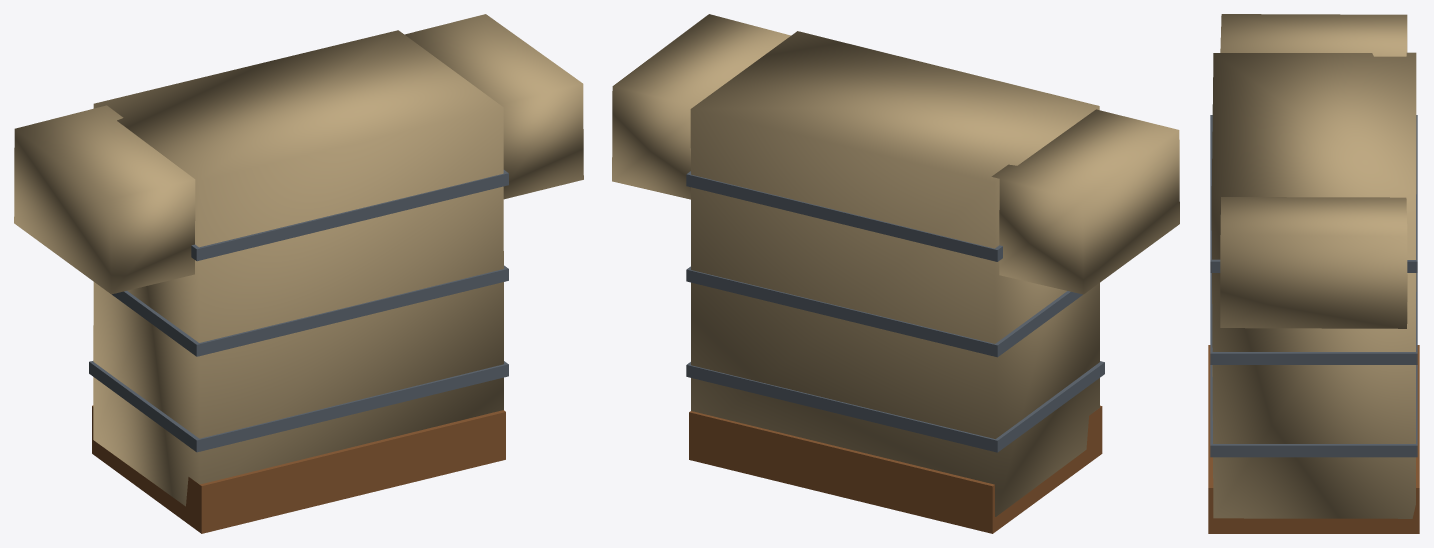
Rendered from armor_t1.glb.
3 views of the same model, side by side, from view 1: azimuth 30°, elevation 25°; view 2: azimuth 150°, elevation 25°; view 3: azimuth 270°, elevation 25° (orthographic). The views are drawn at different scales.
Parts seen in each view (by area): view 1: item_cloth1, item_leather1, item_darkMetal1; view 2: item_cloth1, item_leather1, item_darkMetal1; view 3: item_cloth1, item_darkMetal1, item_leather1.
Part boxes in pixels (<box>): item_cloth1: <box>14,14,583,506</box>; item_leather1: <box>92,405,505,533</box>; item_darkMetal1: <box>89,170,508,452</box>; item_cloth1: <box>612,14,1179,516</box>; item_leather1: <box>689,405,1102,533</box>; item_darkMetal1: <box>686,171,1104,452</box>; item_cloth1: <box>1211,14,1416,518</box>; item_darkMetal1: <box>1210,115,1417,457</box>; item_leather1: <box>1208,345,1419,533</box>.
Bounding box in the file's own units: 0.6213 × 0.4411 × 0.25.
